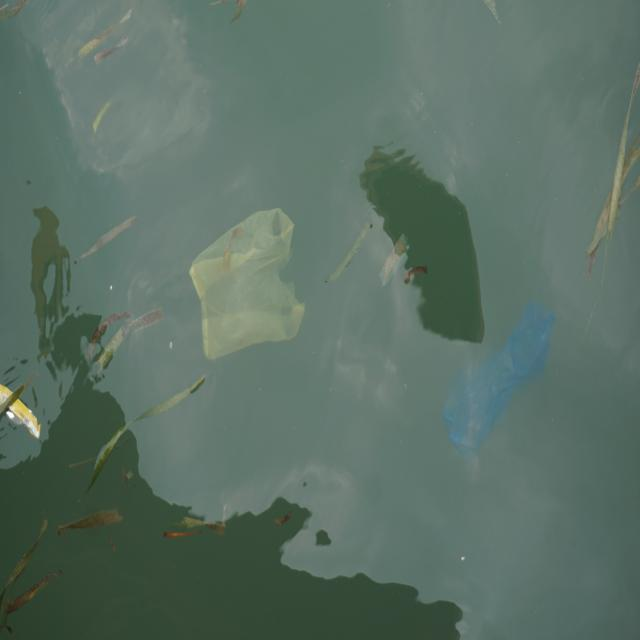Bungkus Makanan: (1, 370, 48, 448)
Kantong Plastik: (189, 202, 308, 368), (443, 298, 556, 462)
